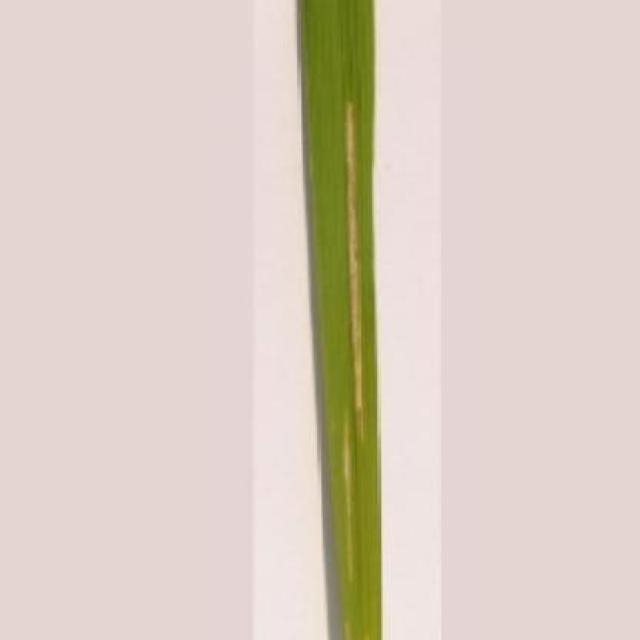Brown_Spot: (299, 0, 383, 640)
